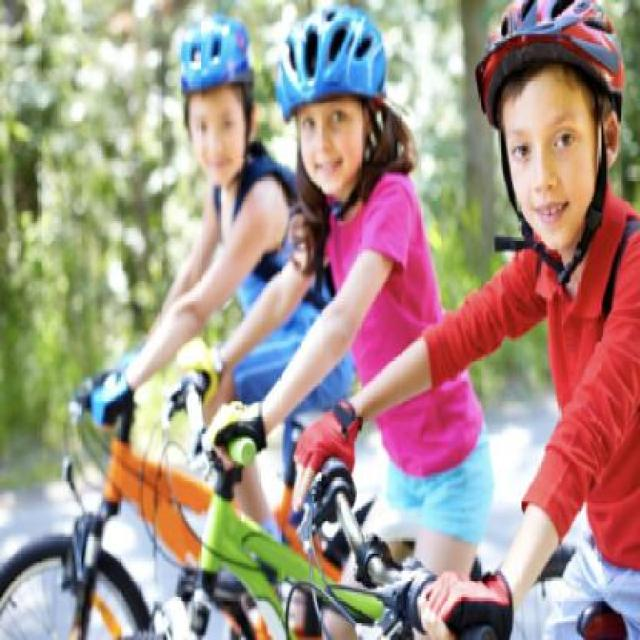With Helmet: (476, 5, 626, 254), (271, 15, 392, 204), (182, 10, 262, 162)
